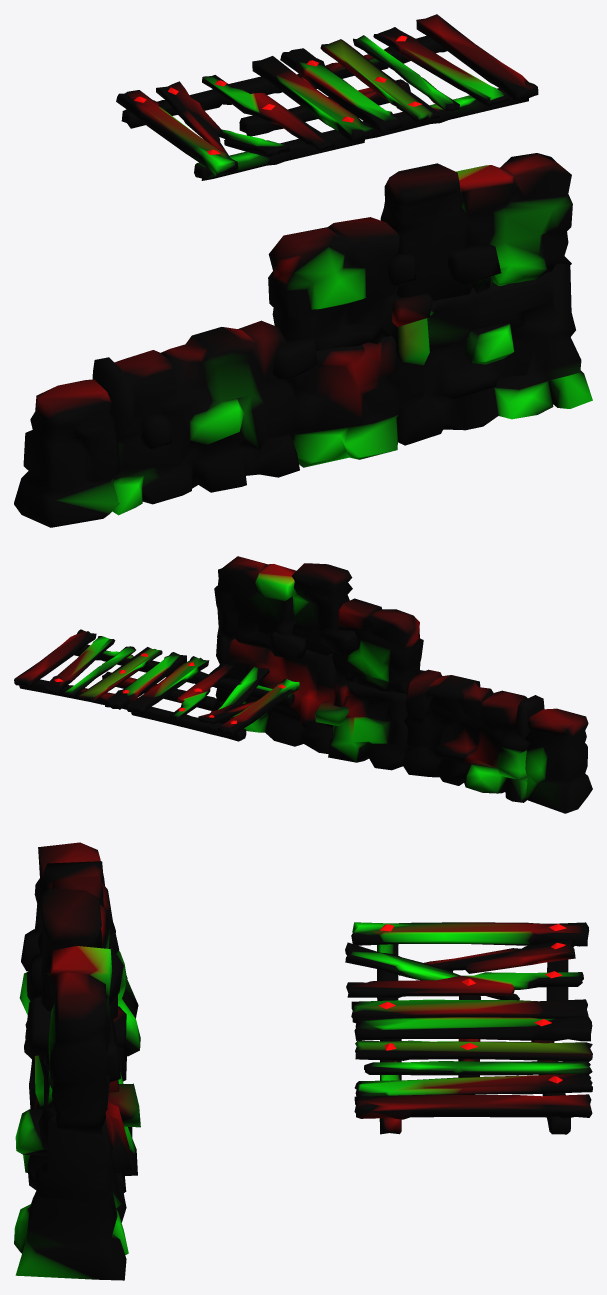
Rendered from wall.fbx.
The picture shows the model from 3 angles, top to bottom: view 1: azimuth 30°, elevation 25°; view 2: azimuth 150°, elevation 25°; view 3: azimuth 270°, elevation 25°; orthographic projection. The views are drawn at different scales.
Parts seen in each view (by area): view 1: StaticMeshActor_UAID_00155DBB35CDA82301_1124721691_LOD0, StaticMeshActor_UAID_00155DBB35CDA82301_1146221693_LOD0; view 2: StaticMeshActor_UAID_00155DBB35CDA82301_1124721691_LOD0, StaticMeshActor_UAID_00155DBB35CDA82301_1146221693_LOD0; view 3: StaticMeshActor_UAID_00155DBB35CDA82301_1124721691_LOD0, StaticMeshActor_UAID_00155DBB35CDA82301_1146221693_LOD0.
Boxes of the visible parts, x1,y1,x2,y2 form: StaticMeshActor_UAID_00155DBB35CDA82301_1124721691_LOD0: [14, 153, 592, 527]; StaticMeshActor_UAID_00155DBB35CDA82301_1146221693_LOD0: [116, 14, 538, 180]; StaticMeshActor_UAID_00155DBB35CDA82301_1124721691_LOD0: [211, 556, 592, 813]; StaticMeshActor_UAID_00155DBB35CDA82301_1146221693_LOD0: [14, 629, 299, 741]; StaticMeshActor_UAID_00155DBB35CDA82301_1124721691_LOD0: [14, 842, 140, 1280]; StaticMeshActor_UAID_00155DBB35CDA82301_1146221693_LOD0: [345, 922, 592, 1134].
Size of what is drawn, in the model's own units: 706 by 476 by 270.
